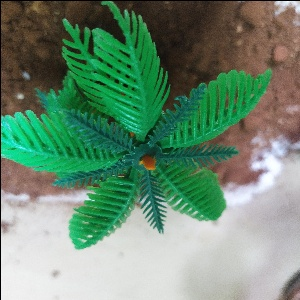plant: (4, 5, 285, 252)
